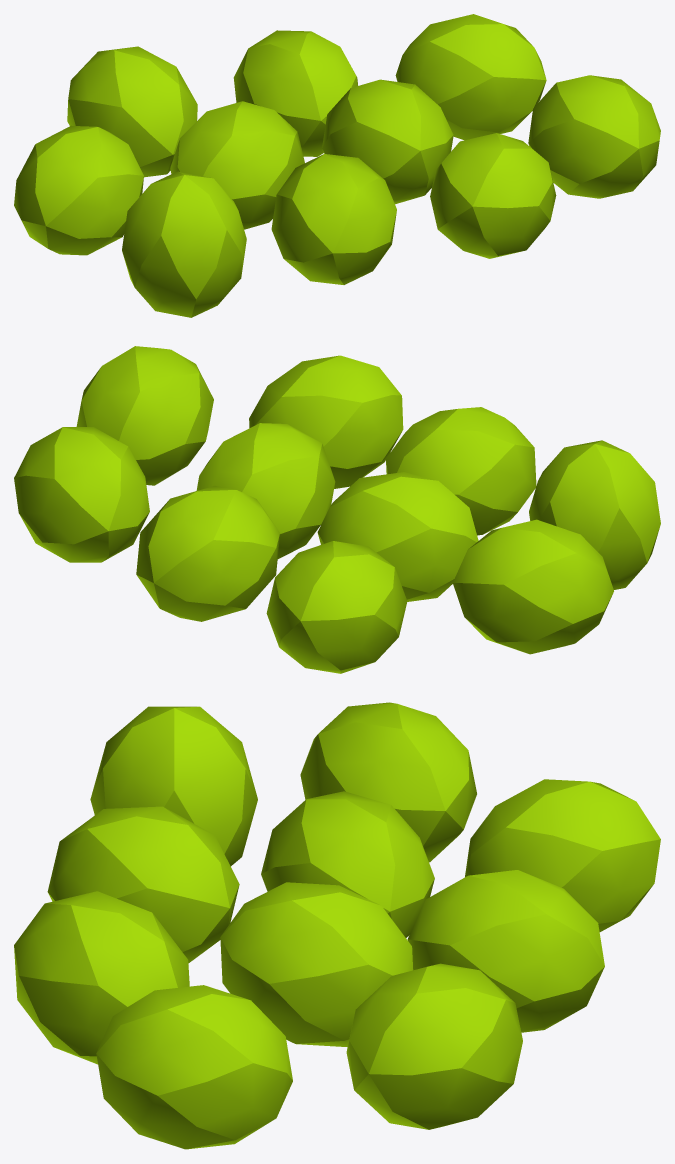
Rendered from UvaVerde.fbx.
3 renders of one model, top to bottom at view 1: azimuth 30°, elevation 25°; view 2: azimuth 150°, elevation 25°; view 3: azimuth 270°, elevation 25°, orthographic. The views are drawn at different scales.
Visible parts, largest first — view 1: UvaVerdeC; view 2: UvaVerdeC; view 3: UvaVerdeC.
Part boxes in pixels (x1=…): UvaVerdeC: x1=14, y1=14, x2=660, y2=317; UvaVerdeC: x1=14, y1=346, x2=660, y2=673; UvaVerdeC: x1=14, y1=702, x2=660, y2=1149.
Bounding box in the file's own units: 13.34 × 3.19 × 10.23.
